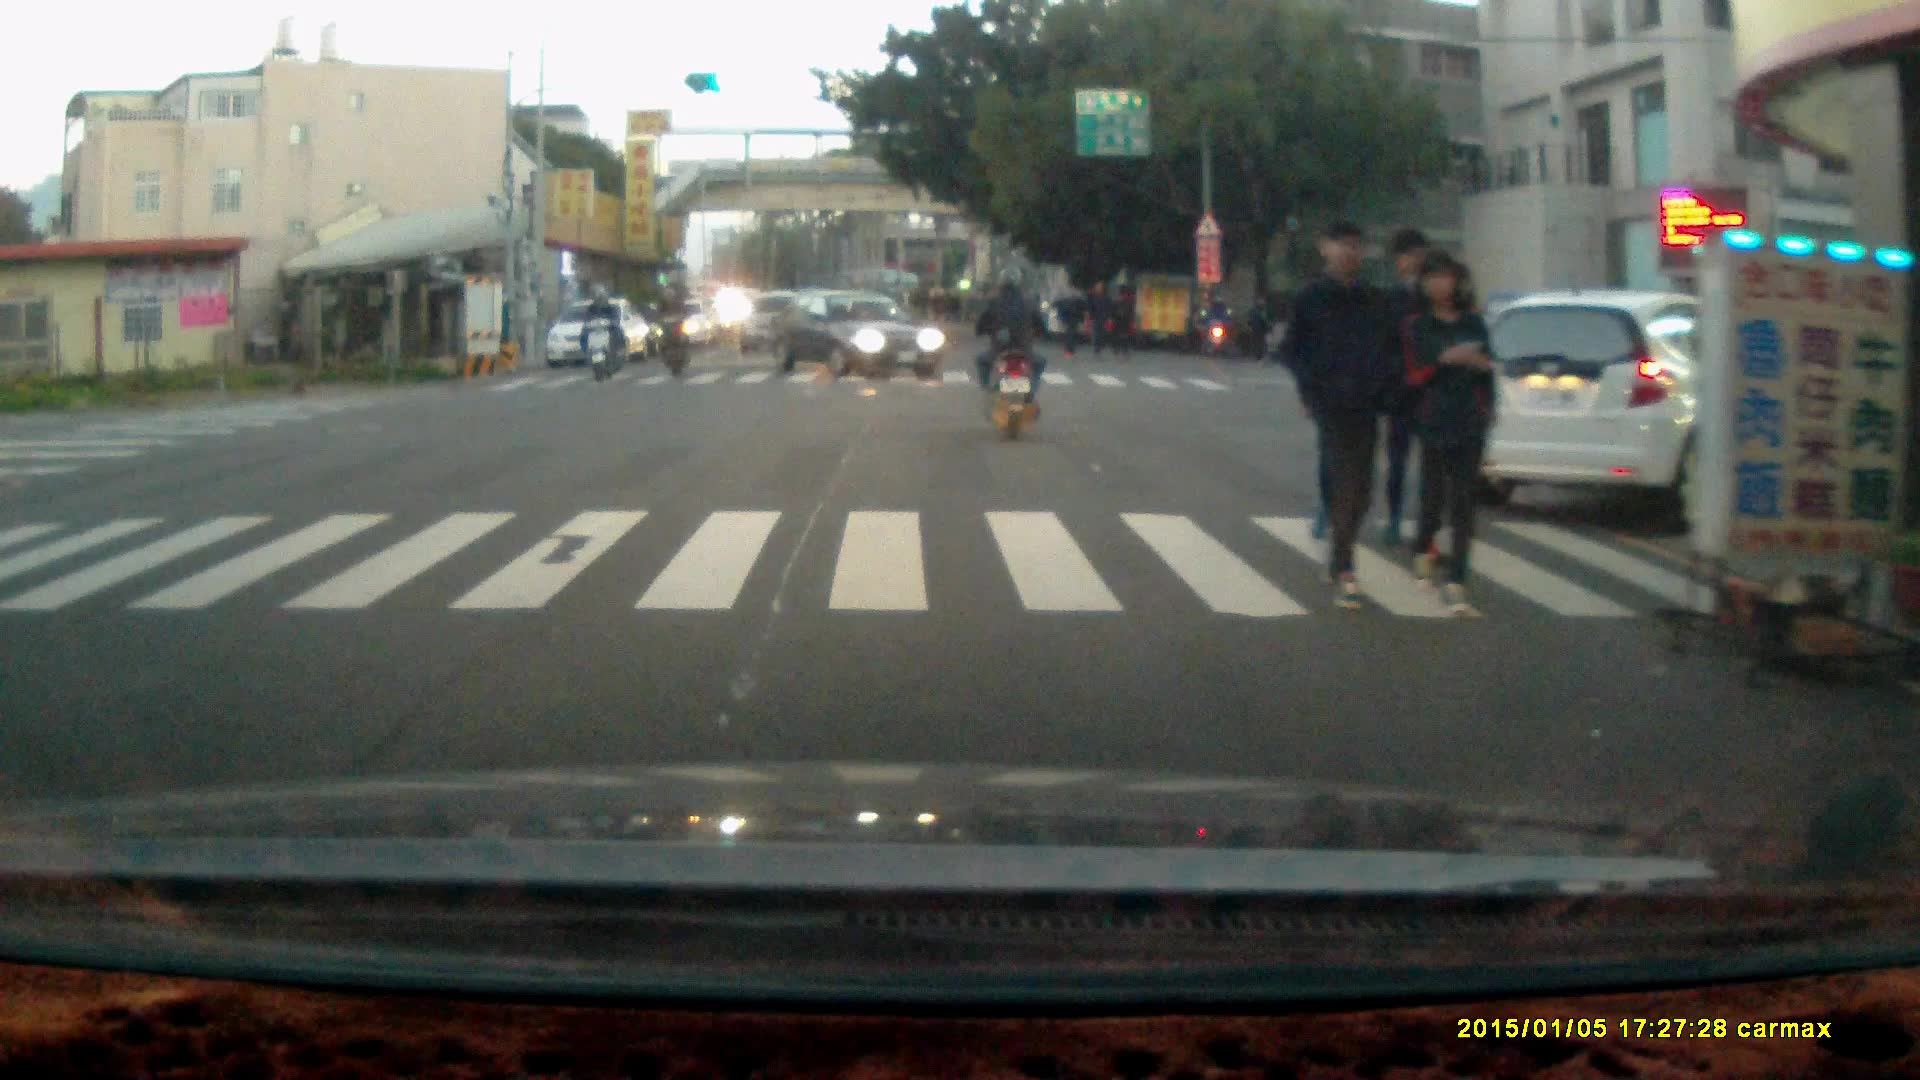pedestrian: (1279, 215, 1409, 617), (1402, 247, 1497, 616), (1243, 289, 1274, 366), (1105, 284, 1137, 357), (1085, 276, 1113, 358), (1054, 281, 1082, 357)
rider: (974, 260, 1046, 443), (579, 282, 623, 382), (651, 280, 696, 376), (1196, 292, 1236, 354)
vehicle: (1453, 282, 1880, 529), (768, 283, 949, 377), (548, 296, 651, 367)
